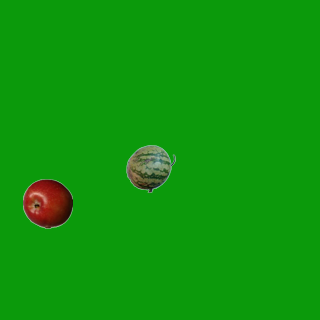Apple Braeburn: (22, 178, 72, 228)
Watermelon: (125, 143, 175, 193)
